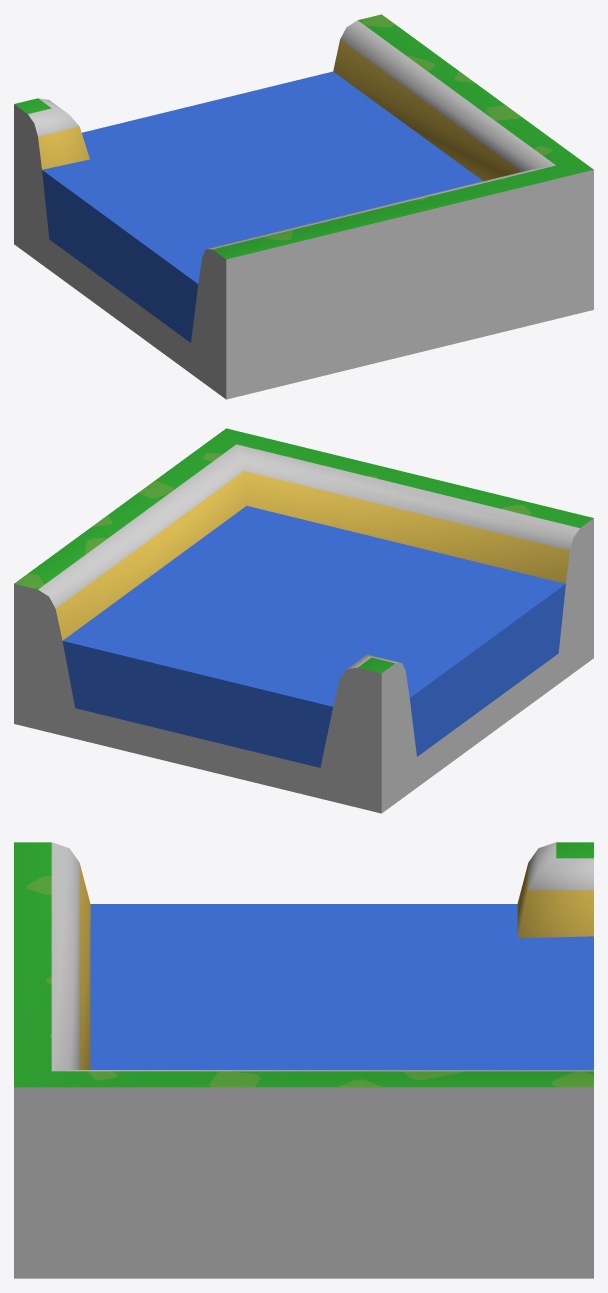
The model's file is RiverTile_2_2.fbx.
3 renders of one model, top to bottom at view 1: azimuth 30°, elevation 25°; view 2: azimuth 150°, elevation 25°; view 3: azimuth 270°, elevation 25°, orthographic. The views are drawn at different scales.
Parts seen in each view (by area): view 1: RiverTile_2_2; view 2: RiverTile_2_2; view 3: RiverTile_2_2.
Part boxes in pixels (x1,y1,x2,y2): RiverTile_2_2: [14, 14, 593, 399]; RiverTile_2_2: [14, 428, 593, 813]; RiverTile_2_2: [14, 842, 593, 1278].
Bounding box in the file's own units: 4 × 1.46 × 4.
